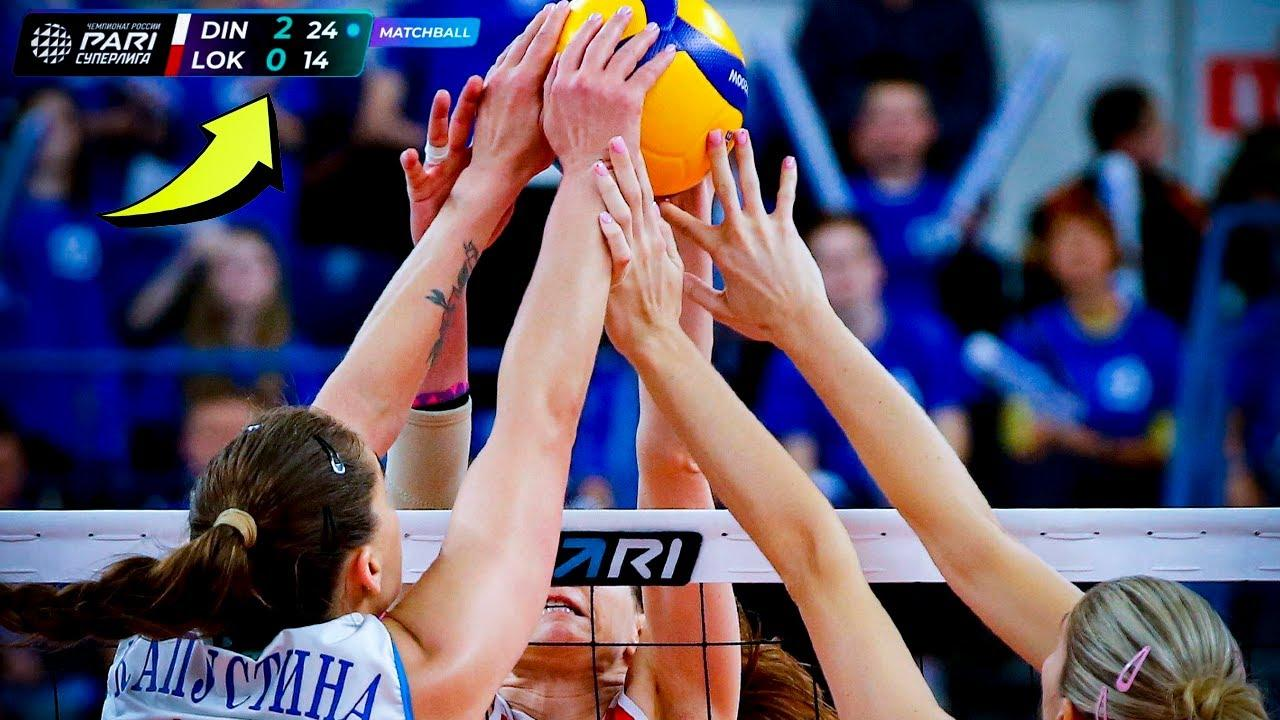ballon_volley: (544, 1, 750, 199)
